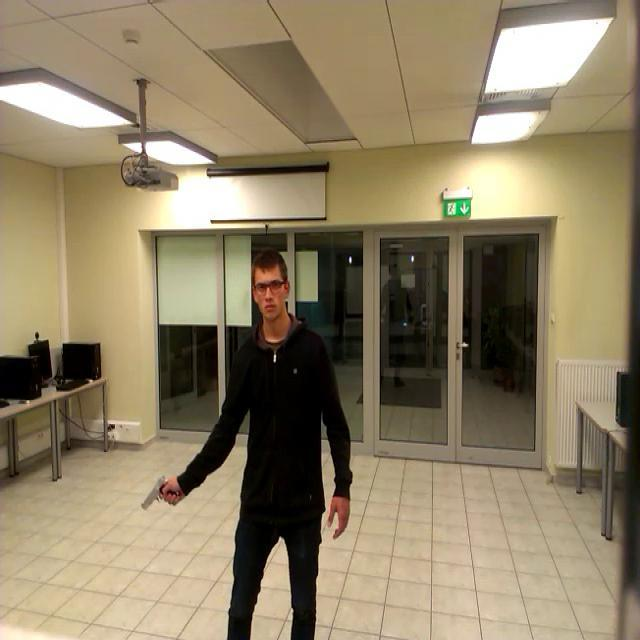Gun: (140, 474, 177, 510)
